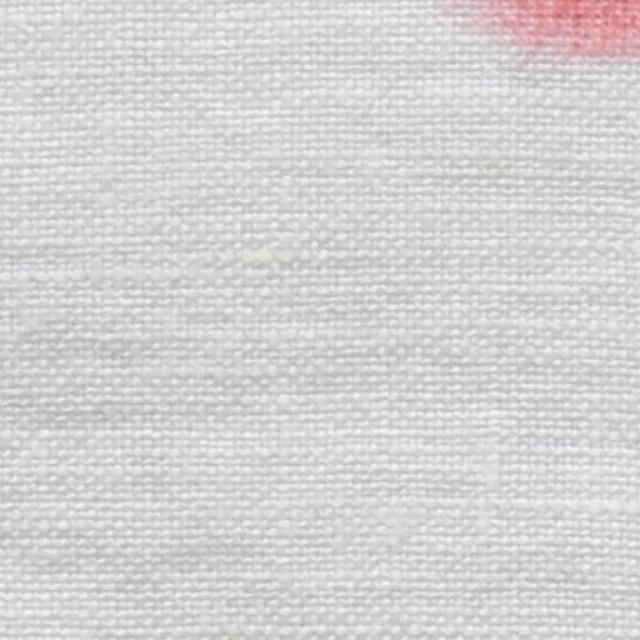Stain: (438, 0, 640, 58)
